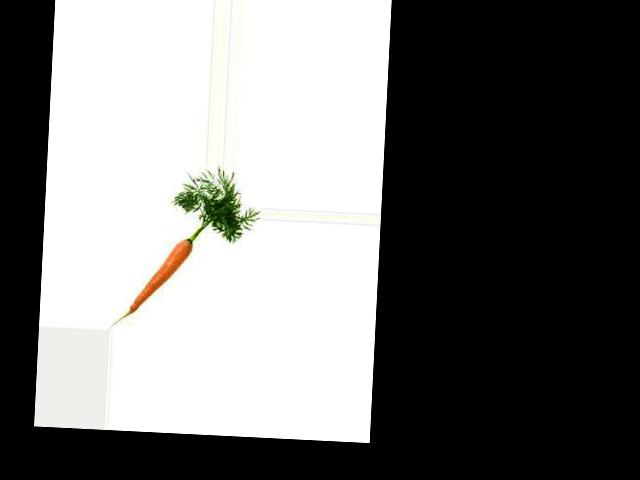carrot: (123, 233, 194, 321)
